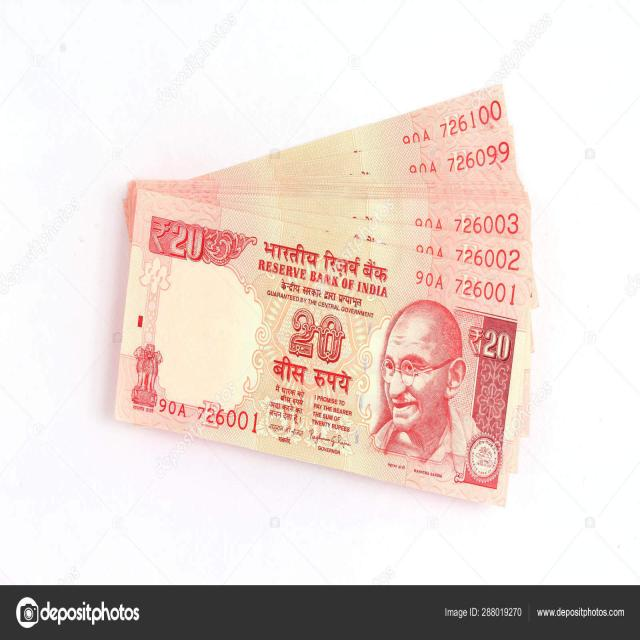20IndianRupees: (116, 183, 529, 508)
